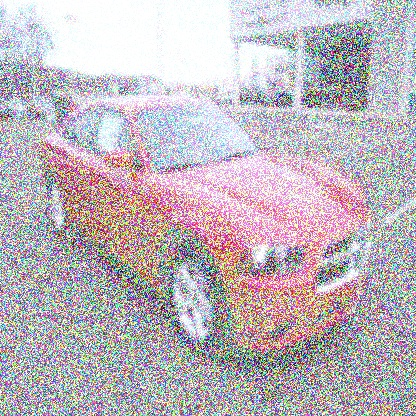Vehicle: (37, 91, 378, 361)
